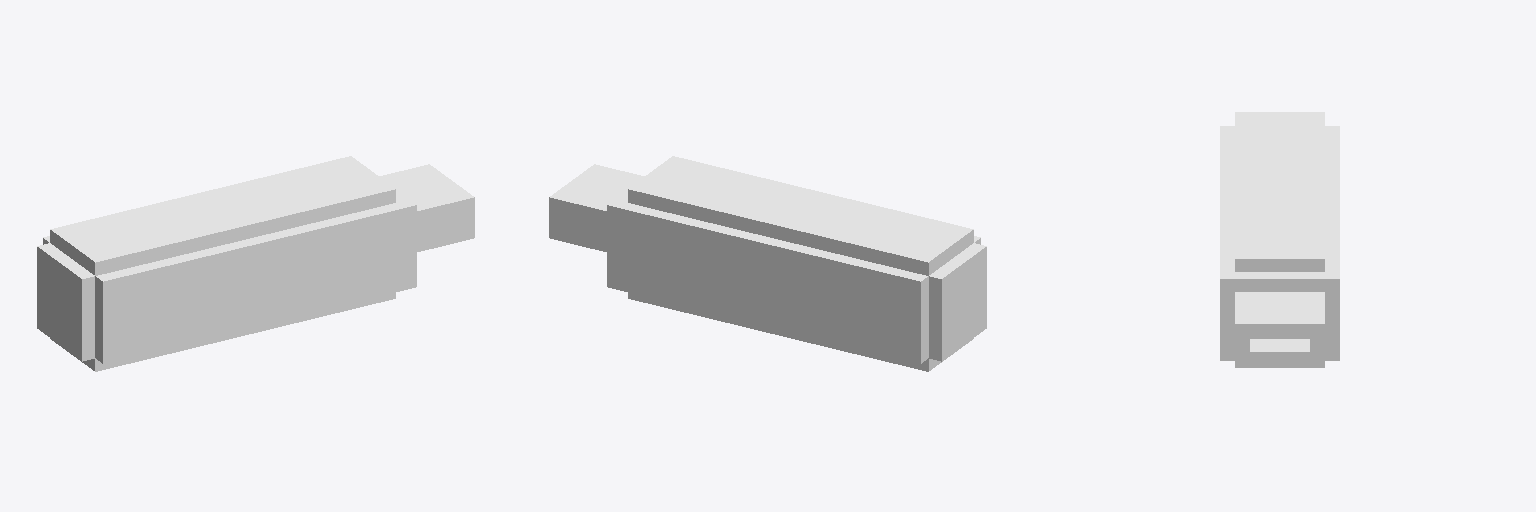
The model's file is USBFlDri.obj.
3 views of the same model, side by side, from view 1: azimuth 30°, elevation 25°; view 2: azimuth 150°, elevation 25°; view 3: azimuth 270°, elevation 25° (orthographic).
Visible parts, largest first — view 1: object 1; view 2: object 1; view 3: object 1.
Boxes of the visible parts, x1,y1,x2,y2 form: object 1: [37, 156, 474, 371]; object 1: [549, 156, 986, 371]; object 1: [1220, 112, 1339, 367].
Size of the model in its own units: 3 by 0.8 by 0.8.